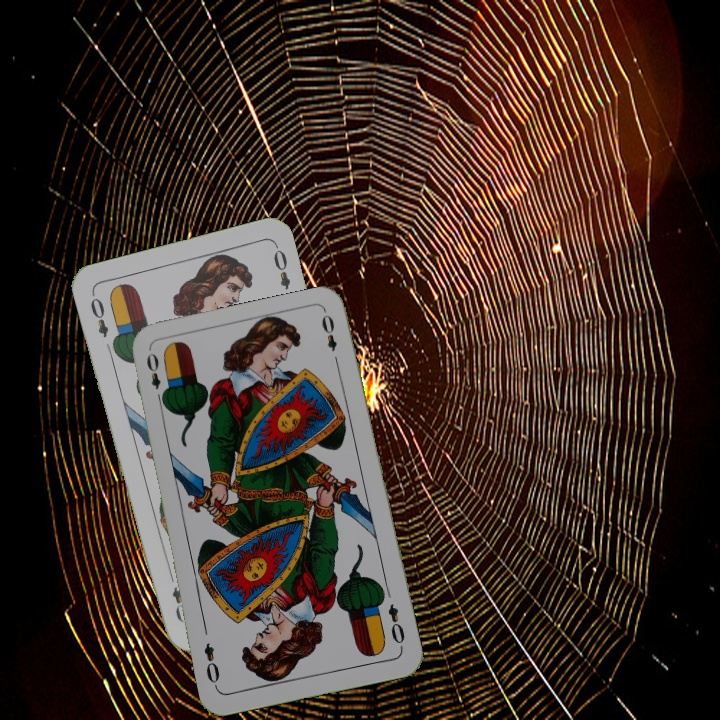EO: (142, 348, 168, 406), (86, 289, 111, 340), (384, 600, 408, 651)
